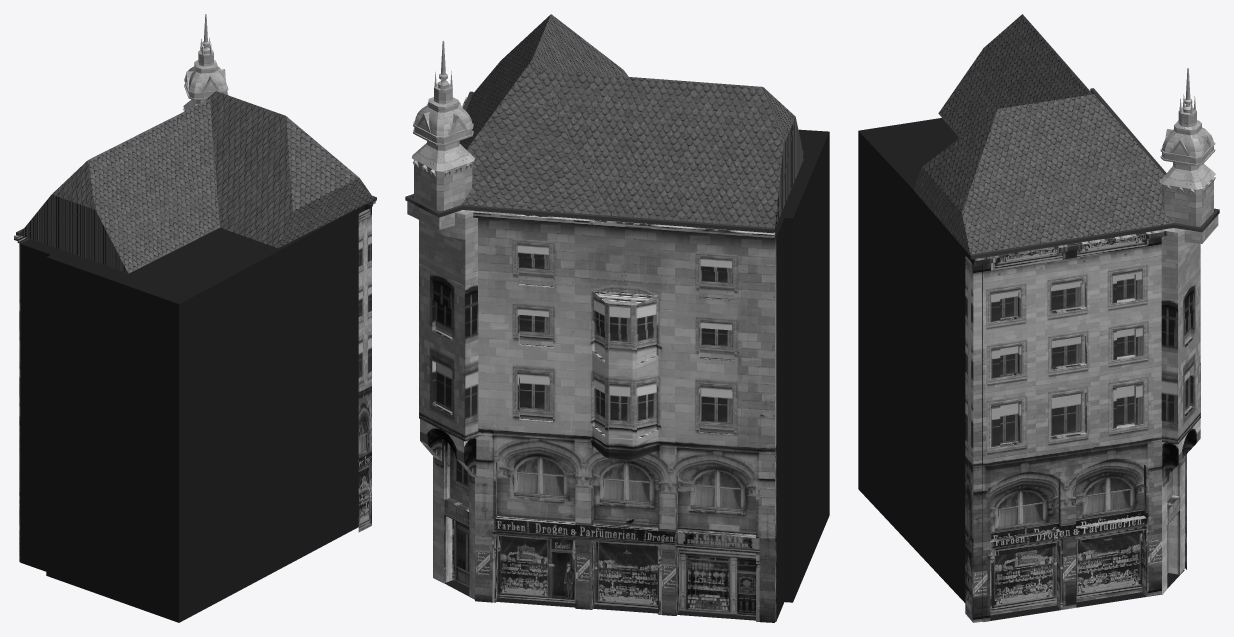
File: JRP_OLD_DOUGLAS.FBX
3 renders of one model, left to right at view 1: azimuth 30°, elevation 25°; view 2: azimuth 150°, elevation 25°; view 3: azimuth 270°, elevation 25°, orthographic. The views are drawn at different scales.
Parts seen in each view (by area): view 1: B_Werth_043, Rectangle013, Pyramid005, B_Werth_42_side001, Box001, B_Werth_42_front001; view 2: B_Werth_42_front001, Rectangle013, B_Werth_043, Pyramid005, B_Werth_42_corner_upp001, B_Werth_42_balkon_under_dif001, Box001, OLD_DOUGLAS, Line002; view 3: B_Werth_42_side001, B_Werth_043, Pyramid005, Rectangle013, B_Werth_42_corner_upp001, Box001, B_Werth_42_balkon_under_dif001, OLD_DOUGLAS, Line002.
Part boxes in pixels (x1,y1,x2,y2): B_Werth_043: [20, 204, 365, 622]; Rectangle013: [19, 99, 219, 273]; Pyramid005: [205, 91, 374, 247]; B_Werth_42_side001: [358, 200, 375, 532]; Box001: [183, 50, 228, 110]; B_Werth_42_front001: [14, 235, 29, 561]; B_Werth_42_front001: [473, 211, 776, 622]; Rectangle013: [538, 70, 804, 229]; B_Werth_043: [444, 129, 829, 621]; Pyramid005: [459, 14, 628, 215]; B_Werth_42_corner_upp001: [419, 263, 478, 441]; B_Werth_42_balkon_under_dif001: [420, 419, 476, 598]; Box001: [412, 83, 474, 211]; OLD_DOUGLAS: [407, 201, 477, 286]; Line002: [405, 91, 773, 233]; B_Werth_42_side001: [965, 230, 1164, 622]; B_Werth_043: [858, 118, 1184, 621]; Pyramid005: [913, 94, 1173, 254]; Rectangle013: [938, 14, 1092, 137]; B_Werth_42_corner_upp001: [1161, 230, 1200, 444]; Box001: [1160, 108, 1215, 226]; B_Werth_42_balkon_under_dif001: [1162, 418, 1200, 594]; OLD_DOUGLAS: [1161, 215, 1218, 299]; Line002: [970, 88, 1219, 259].
Bounding box in the file's own units: 1926 × 2735 × 1738.
8 materials, 6 textured.
